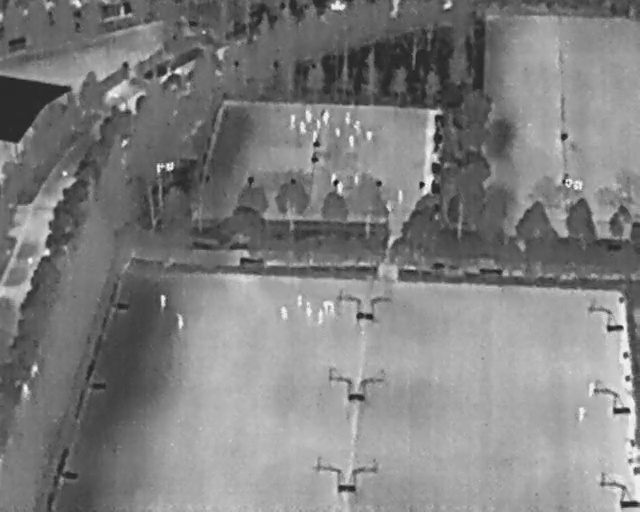Person: (322, 299, 336, 314), (577, 406, 587, 423), (336, 179, 346, 195), (328, 170, 338, 186), (176, 313, 185, 330), (280, 304, 289, 321), (316, 309, 325, 325), (587, 382, 596, 398), (304, 109, 313, 124), (344, 110, 353, 125), (352, 119, 362, 132), (289, 114, 297, 130), (322, 109, 330, 125), (159, 294, 167, 310), (397, 188, 404, 206), (295, 294, 303, 309), (305, 300, 312, 317), (366, 129, 374, 143), (562, 178, 573, 188), (298, 121, 306, 134), (574, 179, 582, 192), (348, 134, 355, 148), (315, 119, 322, 132), (334, 128, 342, 138), (311, 130, 318, 141), (353, 174, 360, 185)
